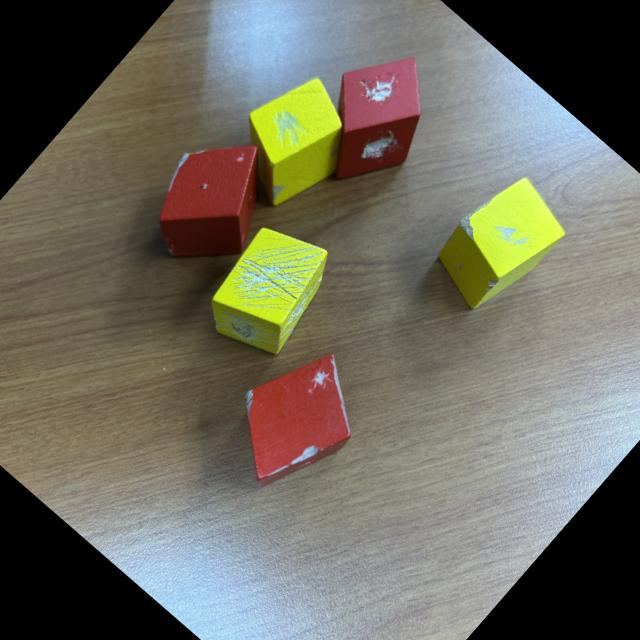broken: (202, 330, 382, 514), (126, 114, 301, 292), (288, 31, 460, 206), (188, 207, 351, 374), (213, 60, 374, 224), (421, 164, 576, 326)
